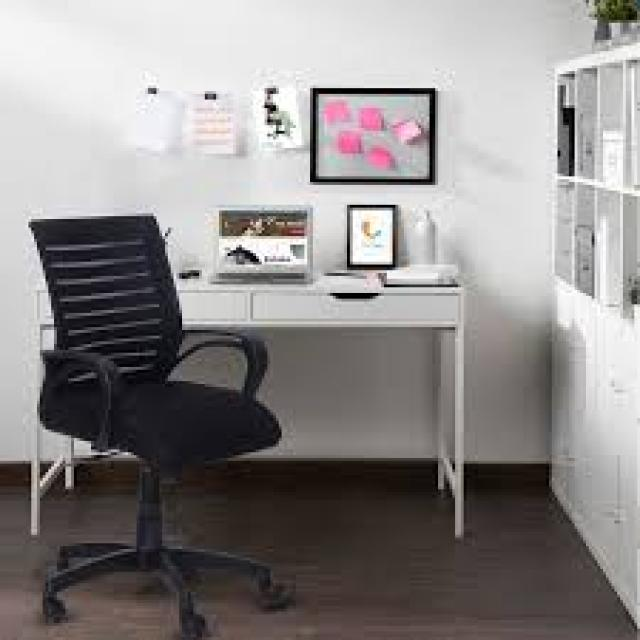chair: (6, 179, 327, 640)
